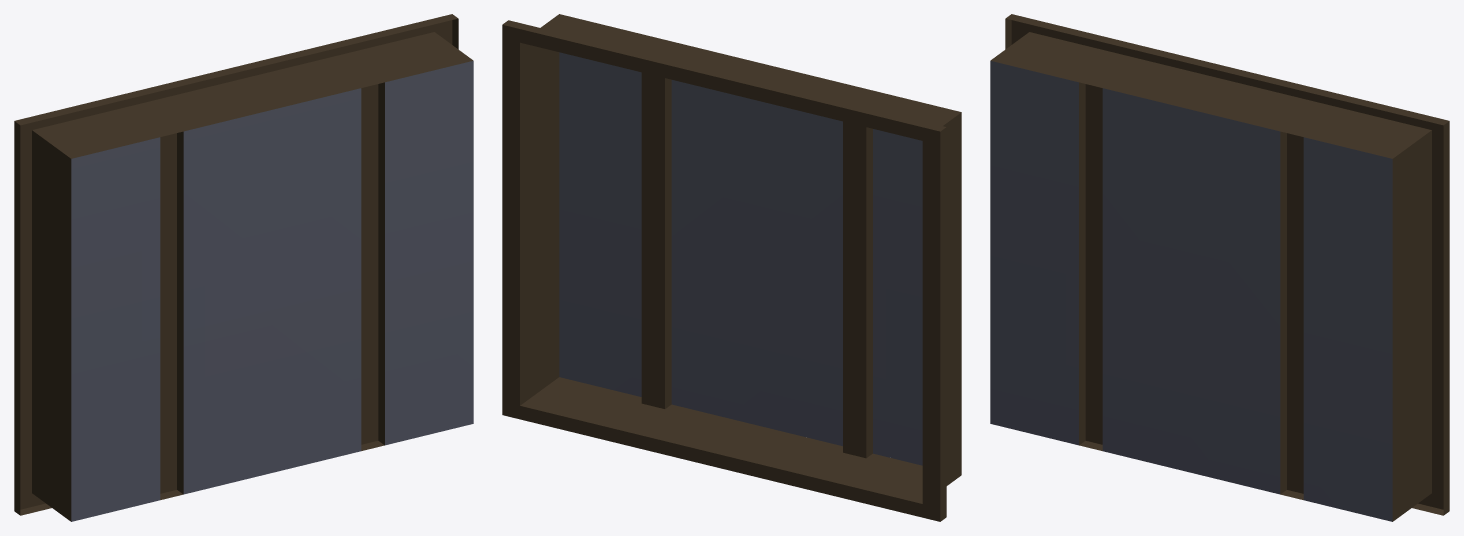
The model's file is Old_window_brown_big.fbx.
3 renders of one model, left to right at view 1: azimuth 30°, elevation 25°; view 2: azimuth 150°, elevation 25°; view 3: azimuth 330°, elevation 25°, orthographic.
Visible parts, largest first — view 1: Old_window_brown_big; view 2: Old_window_brown_big; view 3: Old_window_brown_big.
Part boxes in pixels (left/top/right/bottom): Old_window_brown_big: left=14, top=14, right=473, bottom=521; Old_window_brown_big: left=502, top=14, right=961, bottom=521; Old_window_brown_big: left=990, top=14, right=1449, bottom=521.
Bounding box in the file's own units: 3.85 × 0.5974 × 3.28.
